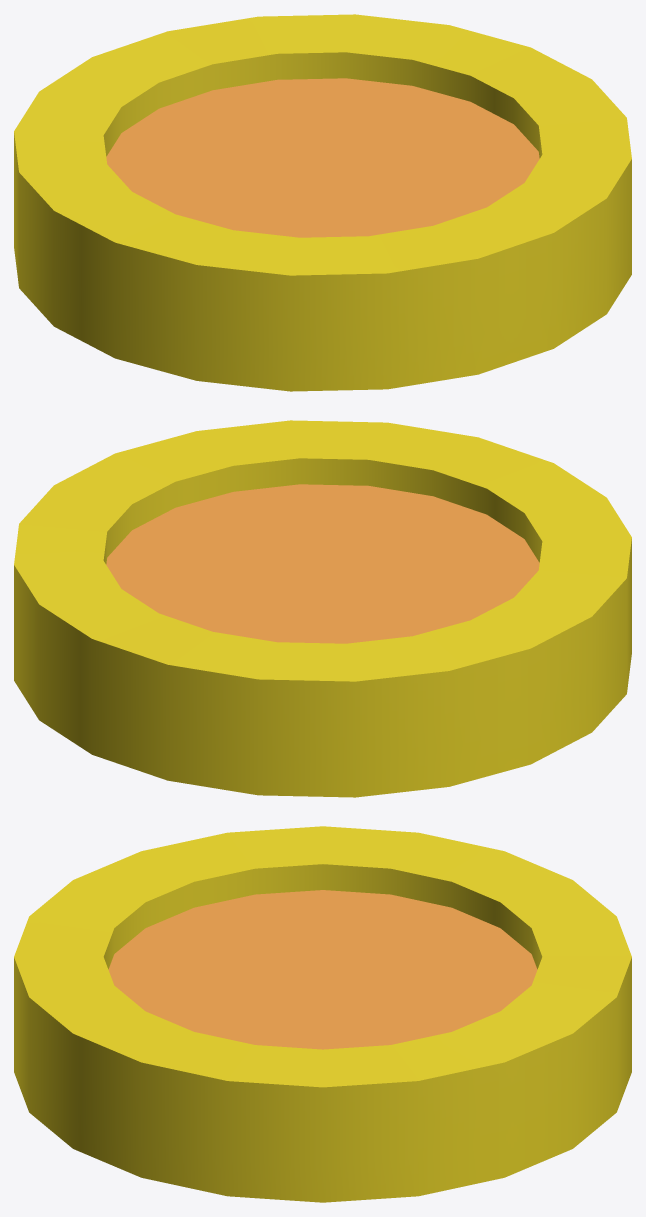
Rendered from Coin.fbx.
The picture shows the model from 3 angles, top to bottom: view 1: azimuth 30°, elevation 25°; view 2: azimuth 150°, elevation 25°; view 3: azimuth 270°, elevation 25°; orthographic projection.
Parts seen in each view (by area): view 1: Coin; view 2: Coin; view 3: Coin.
Boxes of the visible parts, x1,y1,x2,y2 form: Coin: [14, 14, 631, 391]; Coin: [14, 420, 631, 797]; Coin: [14, 826, 631, 1202].
Size of the model in its own units: 40 by 8.23 by 40.
Materials: 1 (1 with a texture image).
